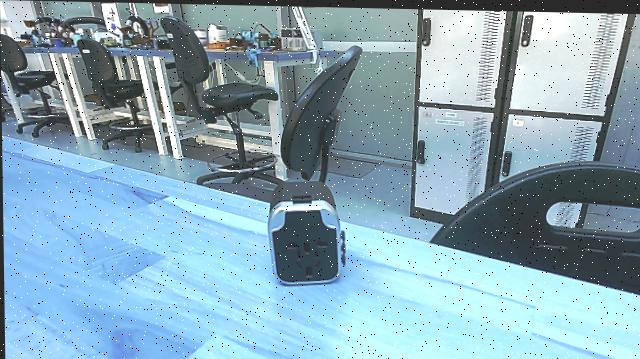adapter: (256, 176, 353, 300)
